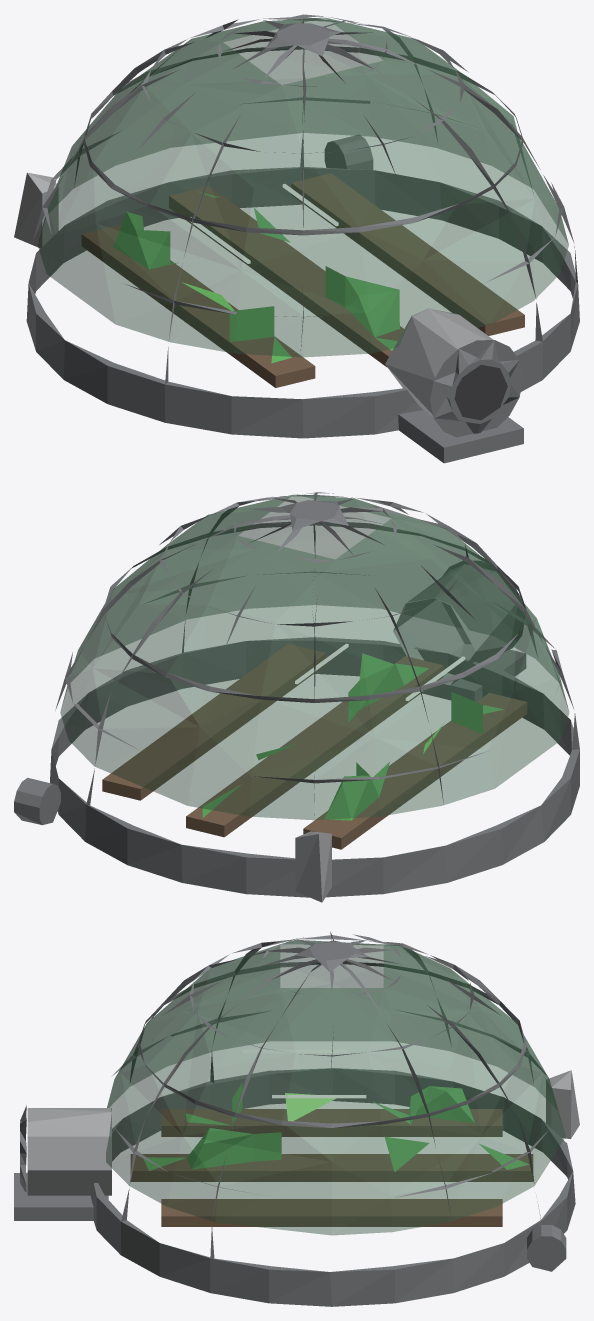
Rendered from greenhouse-dome-lod1.glb.
3 views of the same model, one above another, from view 1: azimuth 30°, elevation 25°; view 2: azimuth 150°, elevation 25°; view 3: azimuth 270°, elevation 25° (orthographic). The views are drawn at different scales.
Size of the model in its own units: 14.4 by 8.25 by 16.73.
